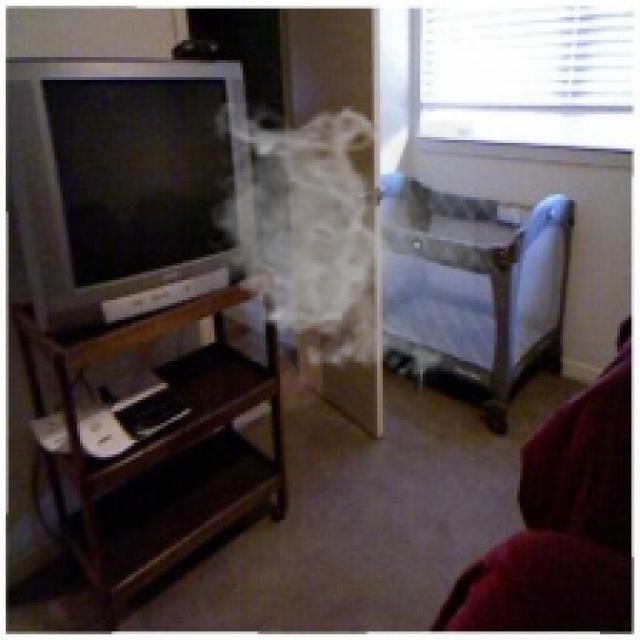smoke: (200, 103, 474, 386)
